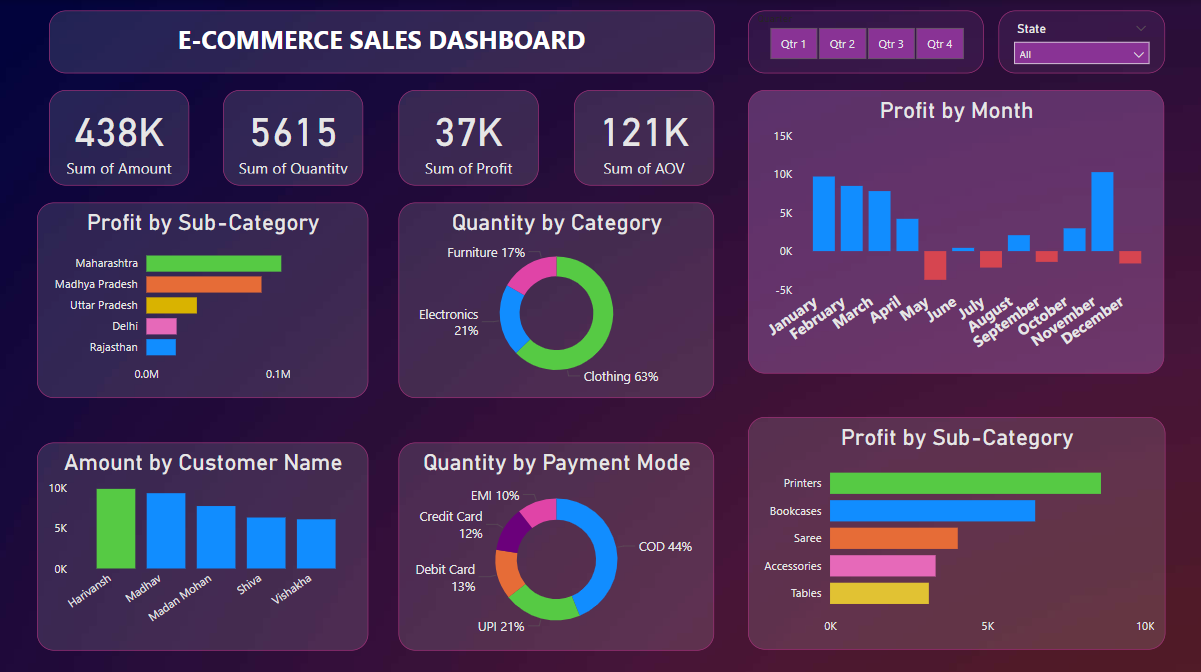

The dashboard page shown, as its layout file describes it:
{"tool":"powerbi","page":{"name":"Page 1","canvas":[1280,720],"ordinal":0},"visuals":[{"type":"columnChart","title":"Profit by Month","fields":{"Category":["Orders.Order Date.Variation.Date Hierarchy.Month"],"Y":["Details.Profit"]},"box":[795.8,94.8,441.2,300.7],"z":0},{"type":"barChart","title":"Profit by Sub-Category","fields":{"Category":["Details.Sub-Category"],"Y":["Details.Profit"]},"box":[795.8,442.8,442.8,246.7],"z":1000},{"type":"donutChart","title":"Quantity by Category","fields":{"Category":["Details.Category"],"Y":["Details.Quantity"]},"box":[424.9,214.1,335,207.5],"z":2000},{"type":"donutChart","title":"Quantity by Payment Mode","fields":{"Y":["Details.Quantity"],"Category":["Details.PaymentMode"]},"box":[424.9,469,335,220.6],"z":3000},{"type":"card","fields":{"Values":["Details.Amount"]},"box":[53.9,94.8,148.7,101.3],"z":4000},{"type":"card","fields":{"Values":["Details.Quantity"]},"box":[238.6,94.8,148.7,101.3],"z":5000},{"type":"card","fields":{"Values":["Details.Profit"]},"box":[424.9,94.8,148.7,101.3],"z":6000},{"type":"card","fields":{"Values":["Details.AOV"]},"box":[611.1,94.8,148.7,101.3],"z":7000},{"type":"barChart","title":"Profit by Sub-Category","fields":{"Category":["Orders.State"],"Y":["Details.Amount"]},"box":[40.9,214.1,351.3,207.5],"z":8000},{"type":"columnChart","title":"Amount by Customer Name","fields":{"Category":["Orders.CustomerName"],"Y":["Details.Amount"]},"box":[40.9,469,351.3,220.6],"z":9000},{"type":"textbox","box":[53.9,11.4,705.9,67],"z":10000},{"type":"slicer","fields":{"Values":["Orders.Order Date.Variation.Date Hierarchy.Quarter"]},"box":[795.8,11.4,250,67],"z":10001},{"type":"slicer","fields":{"Values":["Orders.State"]},"box":[1060.5,11.4,176.5,67],"z":10002}]}

Visuals, with their boxes in screenshot pixels (x1, y1, x2, y2), scaled from the page's 1280x720 canvas onto the 1201x672 screenshot:
"Profit by Month" columnChart: box=[747, 88, 1161, 369]
"Profit by Sub-Category" barChart: box=[747, 413, 1162, 644]
"Quantity by Category" donutChart: box=[399, 200, 713, 393]
"Quantity by Payment Mode" donutChart: box=[399, 438, 713, 644]
card - Details.Amount: box=[51, 88, 190, 183]
card - Details.Quantity: box=[224, 88, 363, 183]
card - Details.Profit: box=[399, 88, 538, 183]
card - Details.AOV: box=[573, 88, 713, 183]
"Profit by Sub-Category" barChart: box=[38, 200, 368, 393]
"Amount by Customer Name" columnChart: box=[38, 438, 368, 644]
textbox: box=[51, 11, 713, 73]
slicer - Orders.Order Date.Variation.Date Hierarchy.Quarter: box=[747, 11, 981, 73]
slicer - Orders.State: box=[995, 11, 1161, 73]
